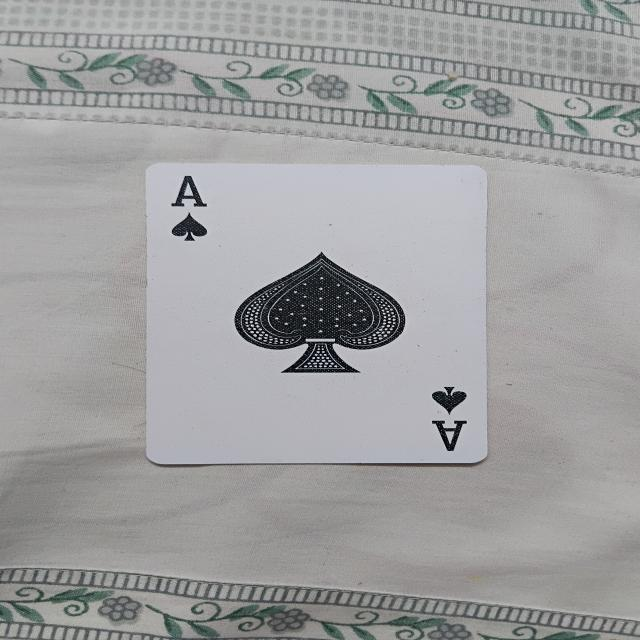AS: (140, 157, 498, 466)
